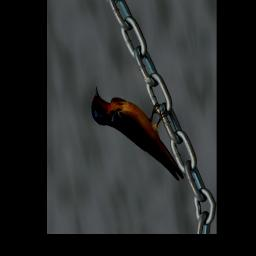Swallow: (88, 71, 186, 198)
